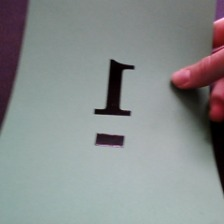green1: (86, 48, 146, 152)
